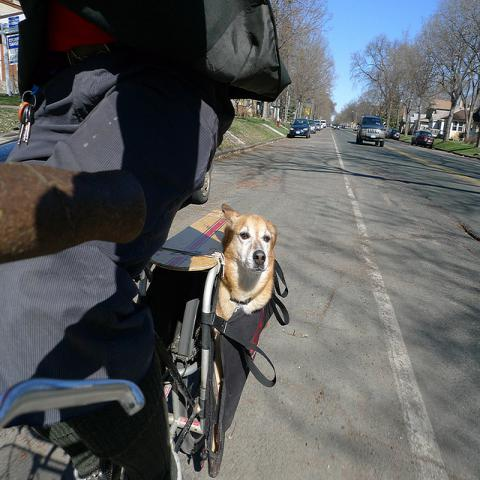car: (411, 131, 434, 149), (290, 119, 310, 138), (386, 128, 401, 139), (309, 123, 316, 134), (315, 122, 321, 132), (321, 120, 326, 128), (334, 124, 340, 130)
truck: (356, 114, 387, 147), (320, 119, 326, 128)
